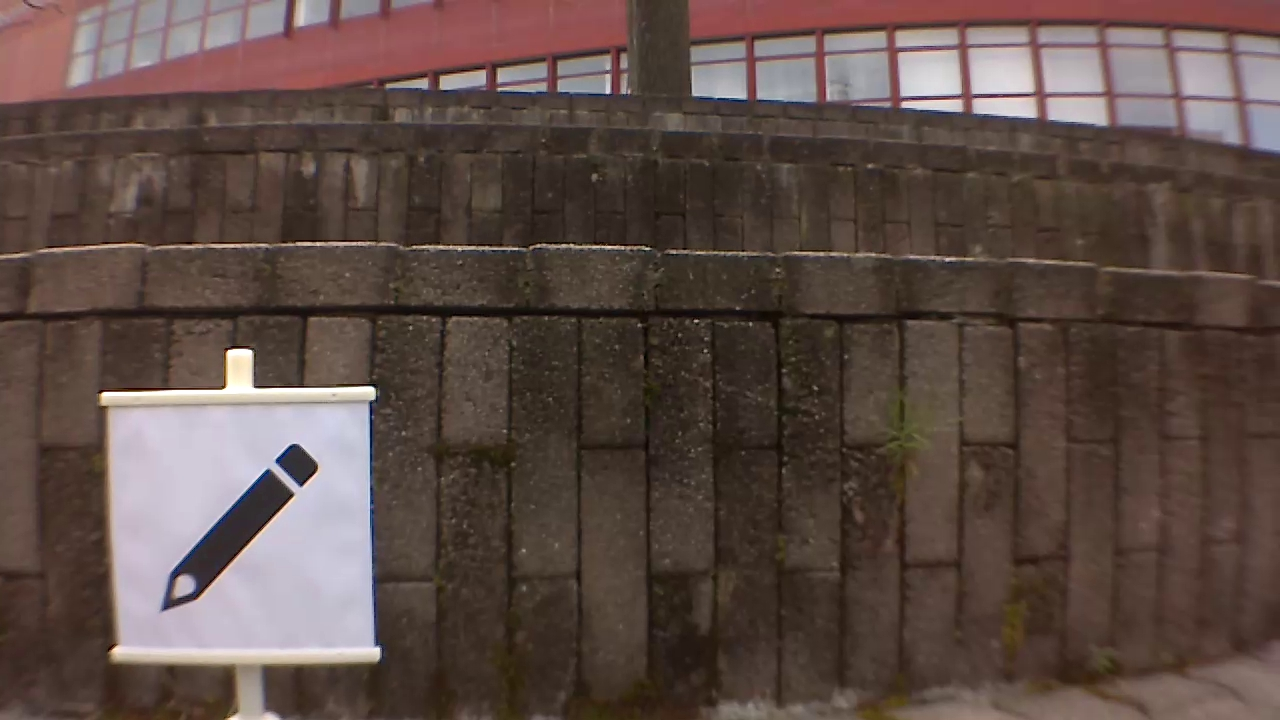pencil: (159, 440, 319, 614)
